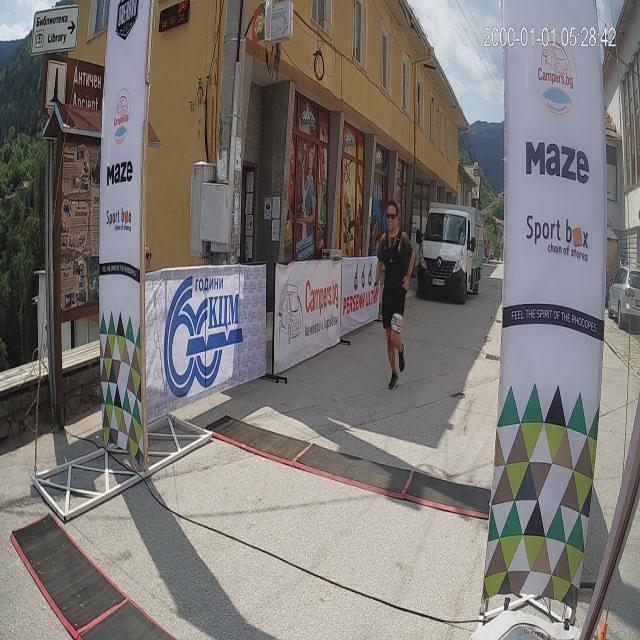runner: (370, 196, 414, 382)
